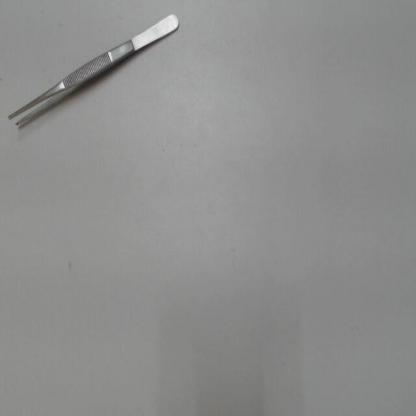Gillies Toothed Dissector: (4, 9, 189, 128)
